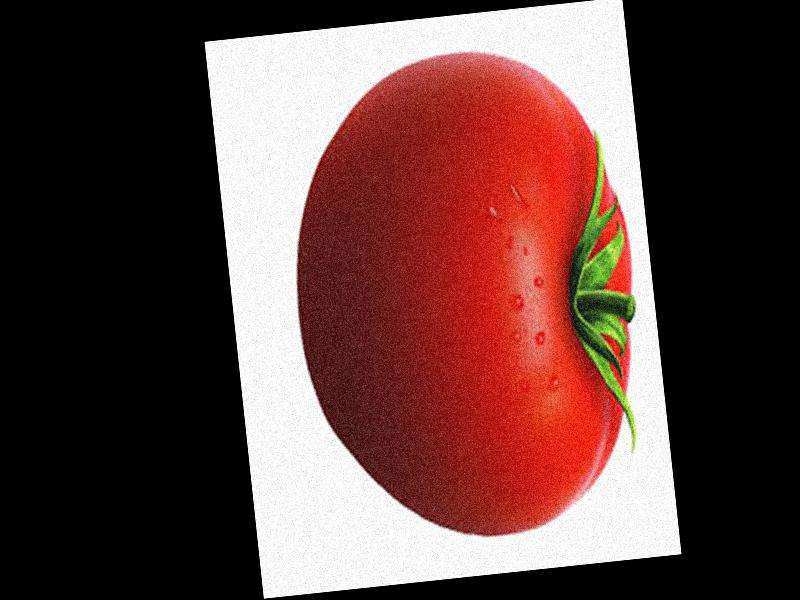Tomato: (278, 94, 658, 553)
